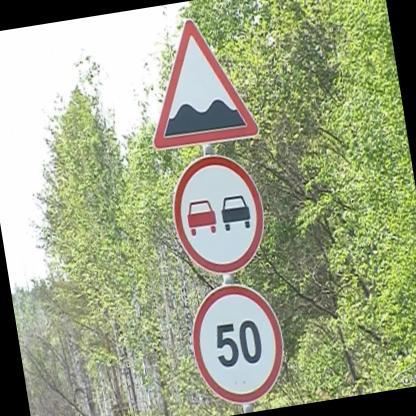road_sign: (154, 20, 257, 148), (174, 155, 264, 274), (194, 286, 283, 403)
